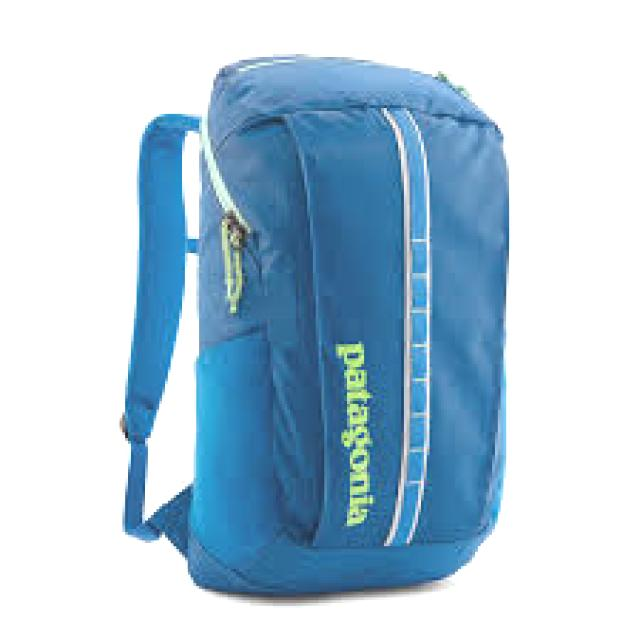backpack: (118, 52, 510, 596)
